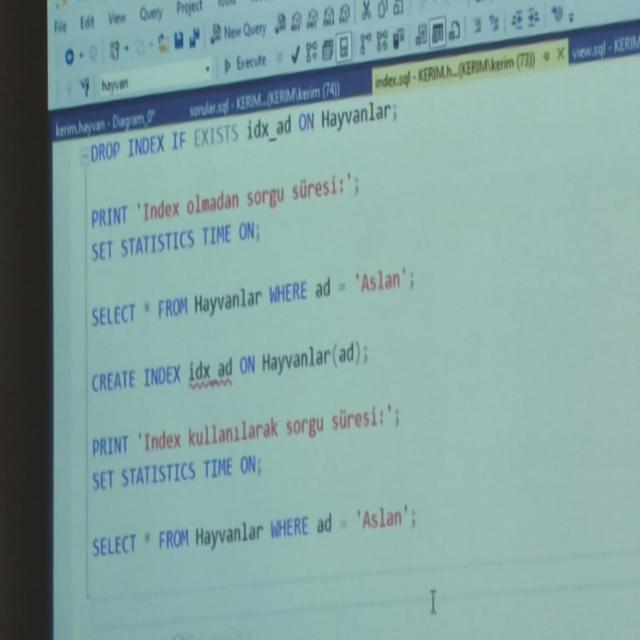text: (89, 389, 415, 512), (86, 158, 366, 281), (88, 249, 422, 347), (85, 481, 429, 575), (88, 329, 370, 418), (86, 89, 399, 169)
